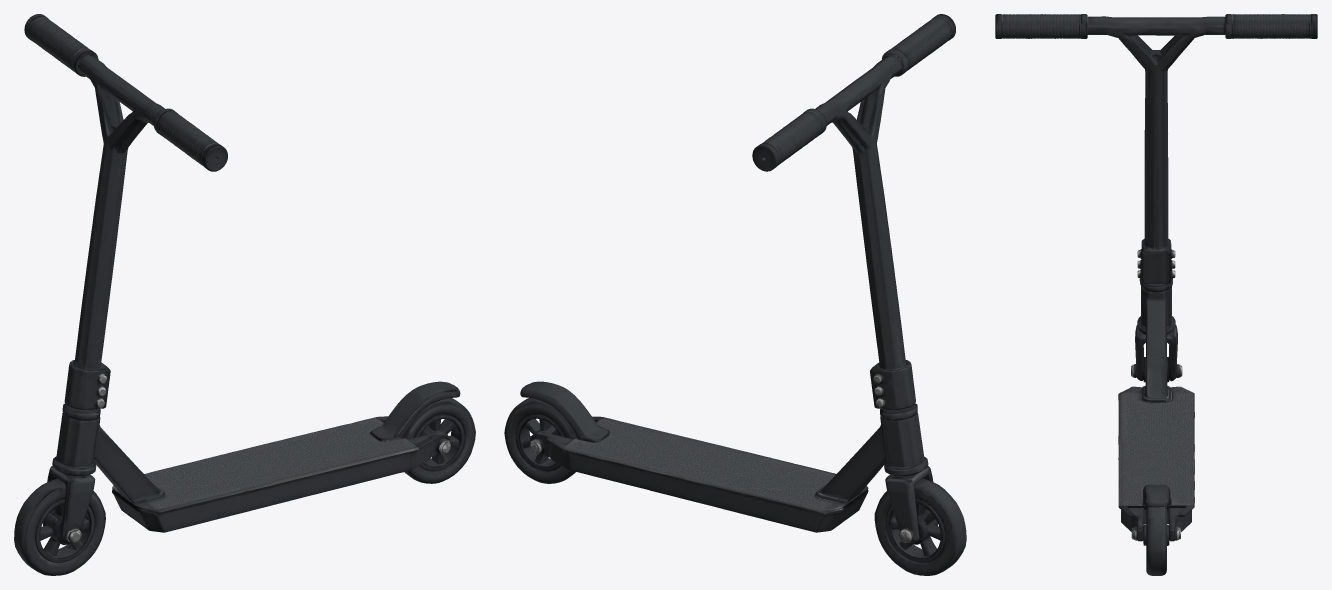
File: scooter.glb
3 views of the same model, side by side, from view 1: azimuth 30°, elevation 25°; view 2: azimuth 150°, elevation 25°; view 3: azimuth 270°, elevation 25° (orthographic). The views are drawn at different scales.
Visible parts, largest first — view 1: tripo_node_1446a549-9df1-48fc-b594-dd8375384091; view 2: tripo_node_1446a549-9df1-48fc-b594-dd8375384091; view 3: tripo_node_1446a549-9df1-48fc-b594-dd8375384091.
Part boxes in pixels (x1=…): tripo_node_1446a549-9df1-48fc-b594-dd8375384091: x1=14, y1=14, x2=475, y2=575; tripo_node_1446a549-9df1-48fc-b594-dd8375384091: x1=504, y1=14, x2=966, y2=575; tripo_node_1446a549-9df1-48fc-b594-dd8375384091: x1=995, y1=14, x2=1317, y2=575.
Bounding box in the file's own units: 0.9797 × 0.9803 × 0.6756.
Materials: 1 (1 with a texture image).
